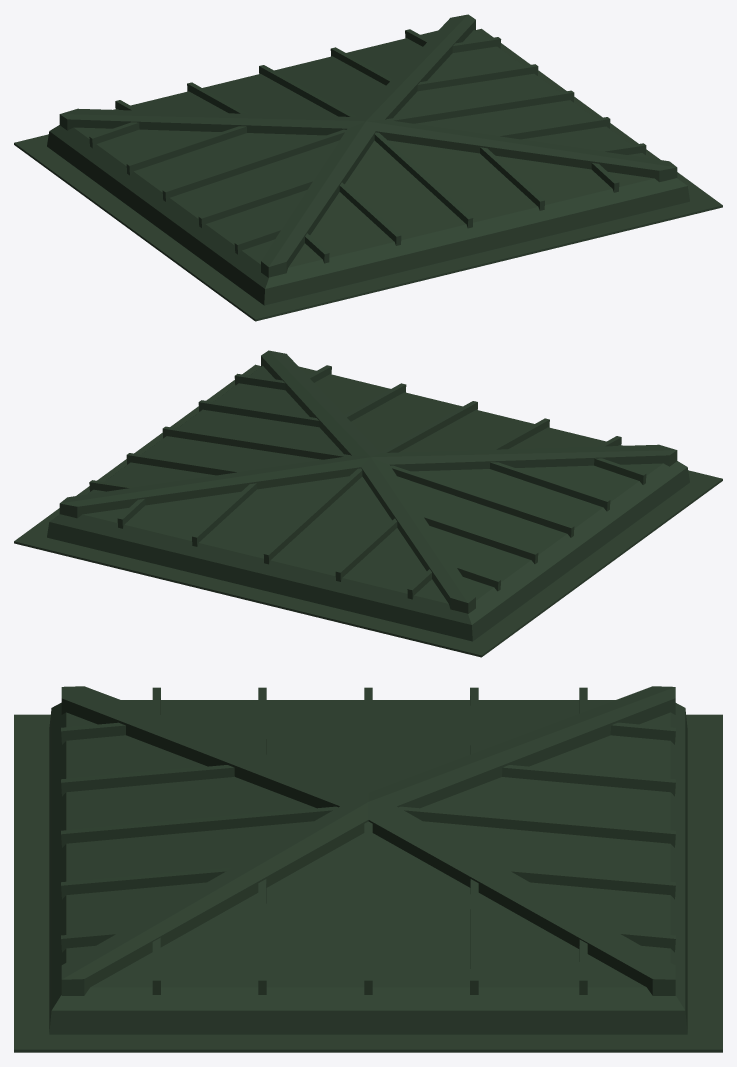
Rendered from SW_ENV_Elevator_Shaft_StreetLevel_Roof.fbx.
3 views of the same model, one above another, from view 1: azimuth 30°, elevation 25°; view 2: azimuth 150°, elevation 25°; view 3: azimuth 270°, elevation 25° (orthographic). The views are drawn at different scales.
Parts seen in each view (by area): view 1: SW_ENV_Elevator_Shaft_StreetLevel_Roof; view 2: SW_ENV_Elevator_Shaft_StreetLevel_Roof; view 3: SW_ENV_Elevator_Shaft_StreetLevel_Roof.
Part boxes in pixels (box(x1,y1,x2,y2)): SW_ENV_Elevator_Shaft_StreetLevel_Roof: box(14, 14, 722, 321); SW_ENV_Elevator_Shaft_StreetLevel_Roof: box(14, 350, 722, 657); SW_ENV_Elevator_Shaft_StreetLevel_Roof: box(14, 686, 722, 1052).
Bounding box in the file's own units: 472 × 68.56 × 422.
